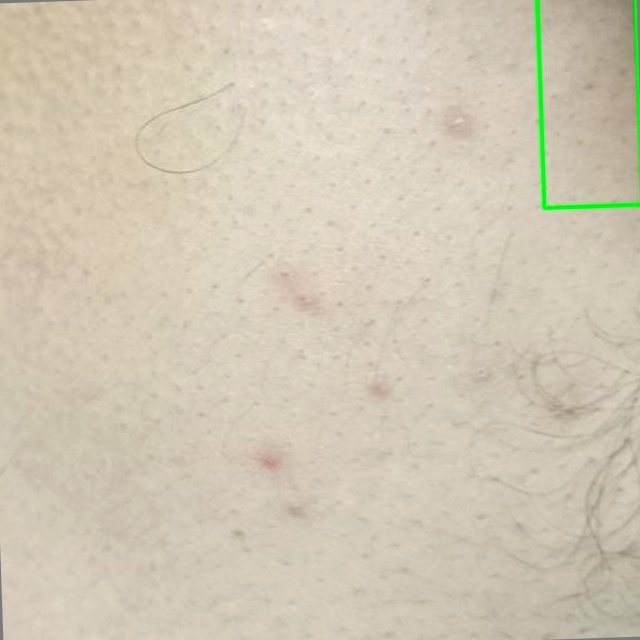Eczema: (537, 0, 639, 207)
